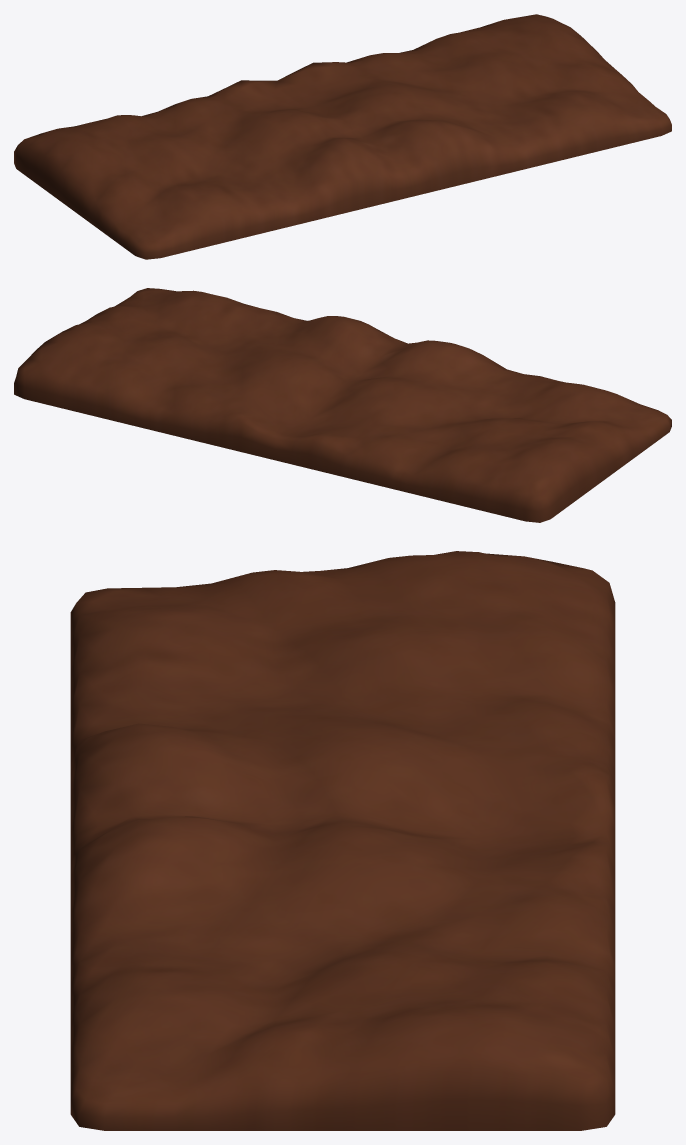
File: Soil Two.fbx
3 views of the same model, one above another, from view 1: azimuth 30°, elevation 25°; view 2: azimuth 150°, elevation 25°; view 3: azimuth 270°, elevation 25° (orthographic). The views are drawn at different scales.
Parts seen in each view (by area): view 1: Two1; view 2: Two1; view 3: Two1.
Part boxes in pixels (x1,y1,x2,y2): Two1: [14, 14, 671, 259]; Two1: [14, 288, 671, 522]; Two1: [70, 551, 615, 1130].
Size of the model in its own units: 17.93 by 1.43 by 7.91.
